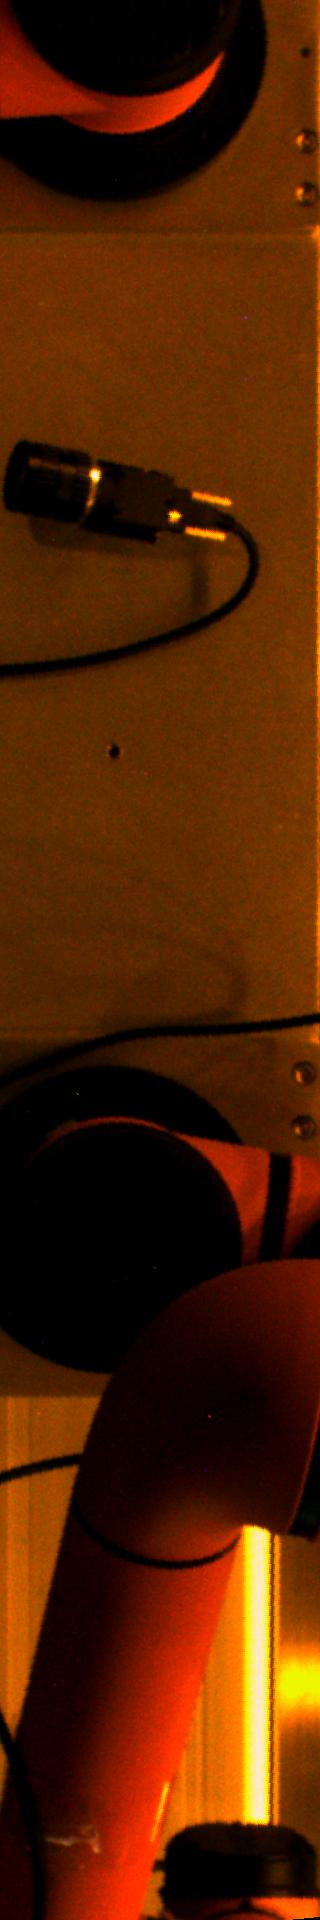keyPoint_2: (98, 738, 128, 768)
